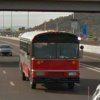Bus: (13, 26, 85, 92)
